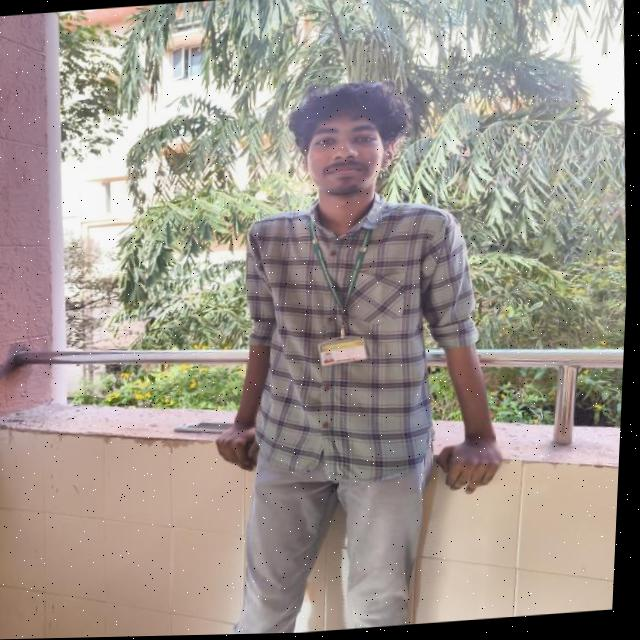id_card: (303, 215, 384, 370)
